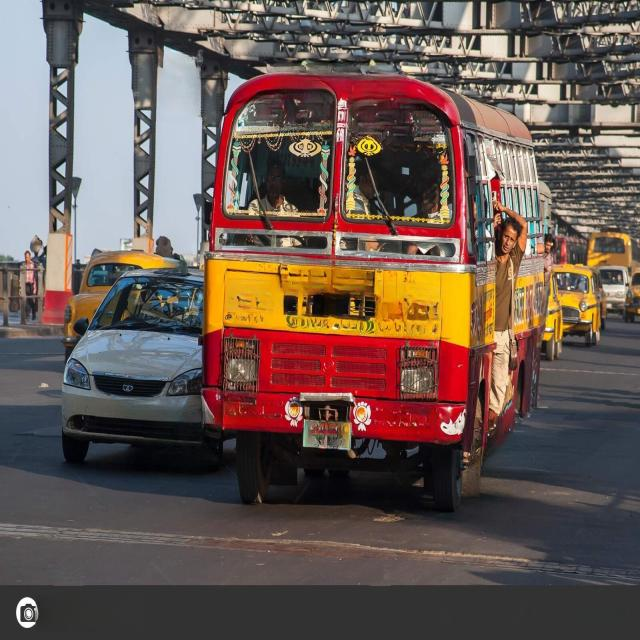bus: (200, 74, 542, 511)
car: (61, 269, 222, 467), (554, 264, 601, 346)
